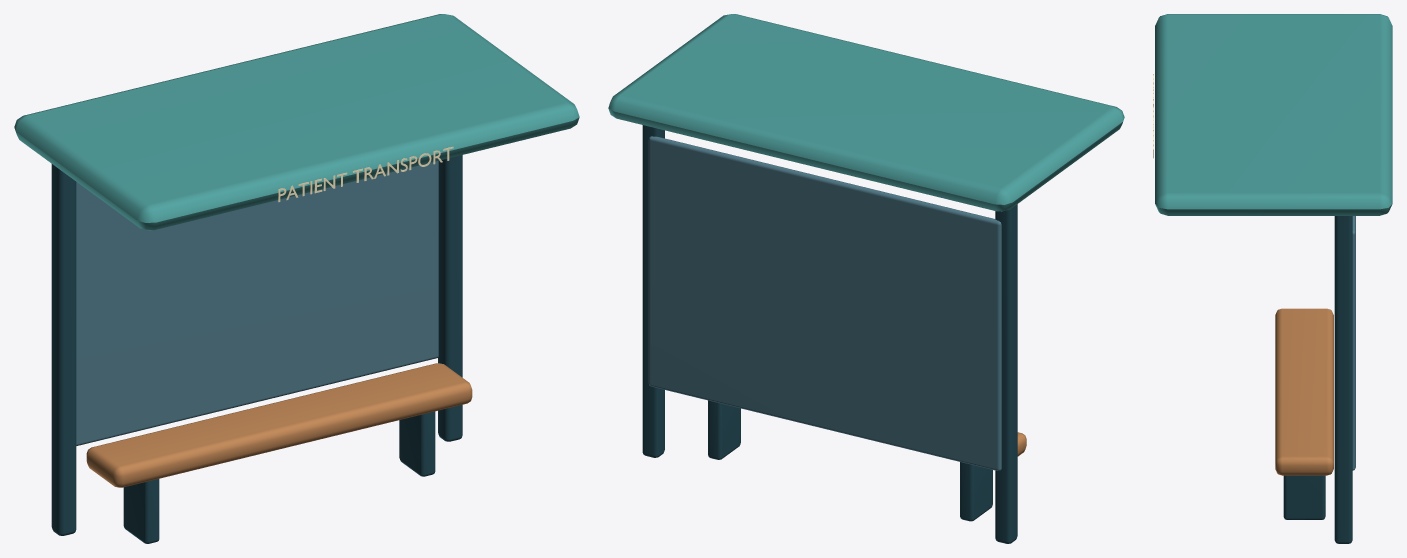
Rendered from shelter.glb.
3 renders of one model, left to right at view 1: azimuth 30°, elevation 25°; view 2: azimuth 150°, elevation 25°; view 3: azimuth 270°, elevation 25°, orthographic. The views are drawn at different scales.
Parts seen in each view (by area): view 1: Shelter back, Shelter roof, Shelter seat, Shelter post, Shelter post.001, Seat support.001, Seat support, PATIENT TRANSPORT; view 2: Shelter back, Shelter roof, Shelter post, Shelter post.001, Seat support, Seat support.001; view 3: Shelter roof, Shelter seat, Shelter post.001, Seat support.001, Shelter back.
Boxes of the visible parts, <box> form: Shelter back: <box>76,161,438,445</box>; Shelter roof: <box>14,14,579,230</box>; Shelter seat: <box>86,363,472,487</box>; Shelter post: <box>51,164,76,535</box>; Shelter post.001: <box>438,155,462,441</box>; Seat support.001: <box>399,411,435,476</box>; Seat support: <box>123,479,159,543</box>; PATIENT TRANSPORT: <box>278,146,453,202</box>; Shelter back: <box>648,136,1001,470</box>; Shelter roof: <box>608,14,1124,211</box>; Shelter post: <box>995,204,1017,543</box>; Shelter post.001: <box>642,125,664,457</box>; Seat support: <box>960,462,992,521</box>; Seat support.001: <box>708,400,740,459</box>; Shelter roof: <box>1155,14,1392,215</box>; Shelter seat: <box>1275,308,1333,475</box>; Shelter post.001: <box>1334,216,1352,543</box>; Seat support.001: <box>1283,475,1325,519</box>; Shelter back: <box>1352,216,1355,470</box>.
Bounding box in the file's own units: 3.2 × 2.81 × 1.71.
